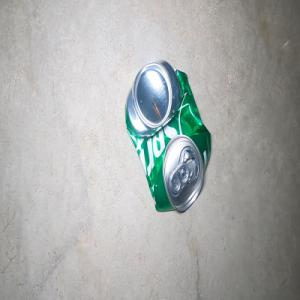SodaCan: (124, 59, 210, 212)
